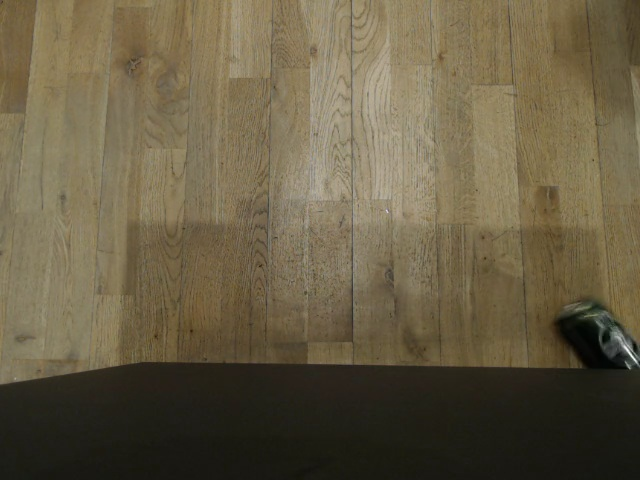beer: (548, 295, 640, 368)
